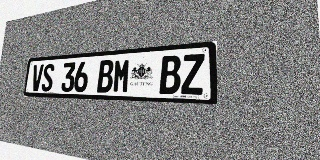3: (61, 62, 76, 92)
6: (73, 61, 89, 92)
B: (159, 55, 181, 94), (97, 60, 114, 93)
M: (112, 58, 131, 93)
S: (41, 64, 55, 91)
V: (31, 64, 44, 91)
Z: (181, 53, 205, 95)
